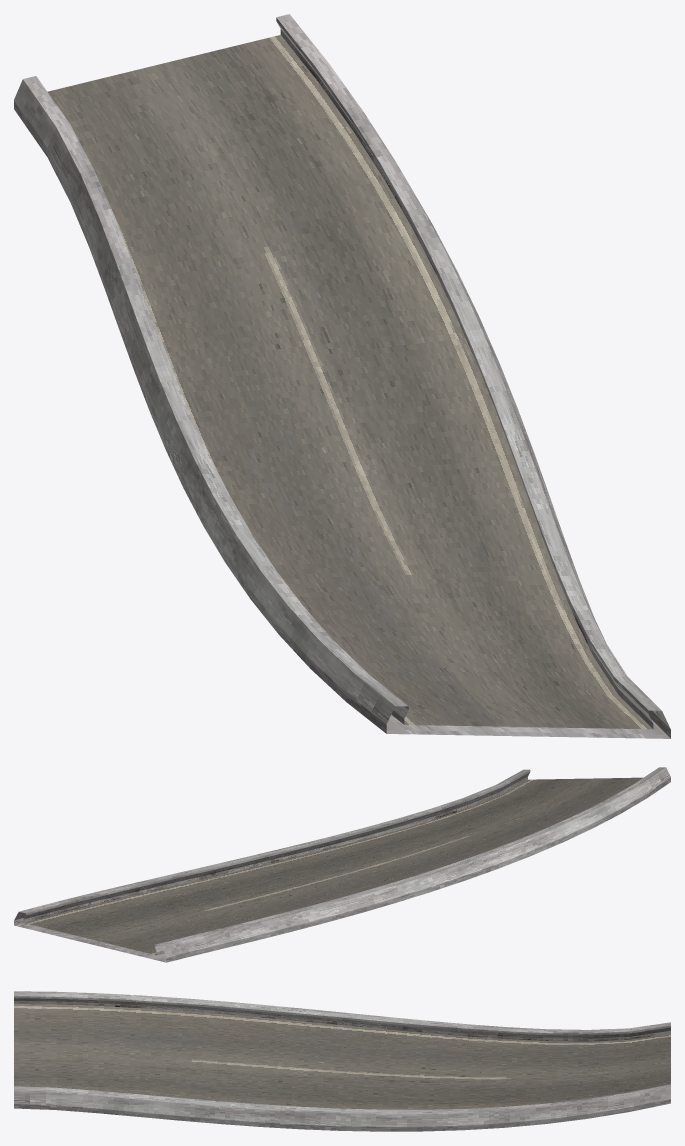
File: road-Chicane-HalfBankedRight-BiSlopeUp-Up2-Right1-Size4.glb
3 renders of one model, top to bottom at view 1: azimuth 30°, elevation 25°; view 2: azimuth 150°, elevation 25°; view 3: azimuth 270°, elevation 25°, orthographic. The views are drawn at different scales.
Visible parts, largest first — view 1: road-Chicane-HalfBankedRight-BiSlopeUp-Up2-Right1-Size4; view 2: road-Chicane-HalfBankedRight-BiSlopeUp-Up2-Right1-Size4; view 3: road-Chicane-HalfBankedRight-BiSlopeUp-Up2-Right1-Size4.
Part boxes in pixels (<box>): road-Chicane-HalfBankedRight-BiSlopeUp-Up2-Right1-Size4: <box>14,14,670,738</box>; road-Chicane-HalfBankedRight-BiSlopeUp-Up2-Right1-Size4: <box>14,767,670,962</box>; road-Chicane-HalfBankedRight-BiSlopeUp-Up2-Right1-Size4: <box>14,991,670,1131</box>.
Size of the model in its own units: 2 by 0.5937 by 4.
2 materials, 2 textured.
